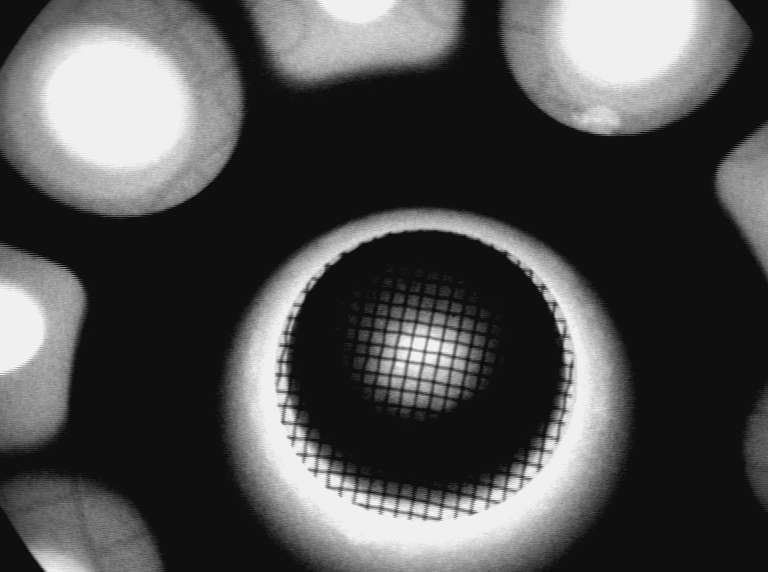defect: (566, 97, 620, 144)
